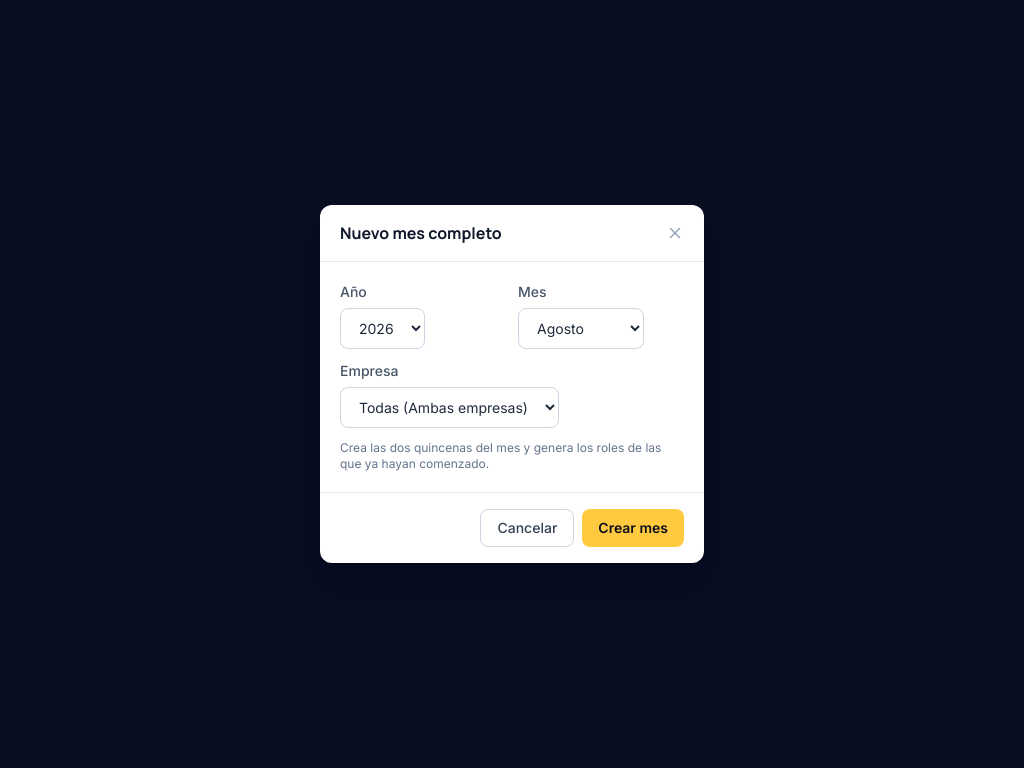
Test case: NuevoMesModal › muestra el error del servidor (ej. 409) sin cerrar el modal
The width and height of the screenshot is (1024, 768).
Click the button "Crear mes". click: click(633, 528)
box: [582,509,684,547]
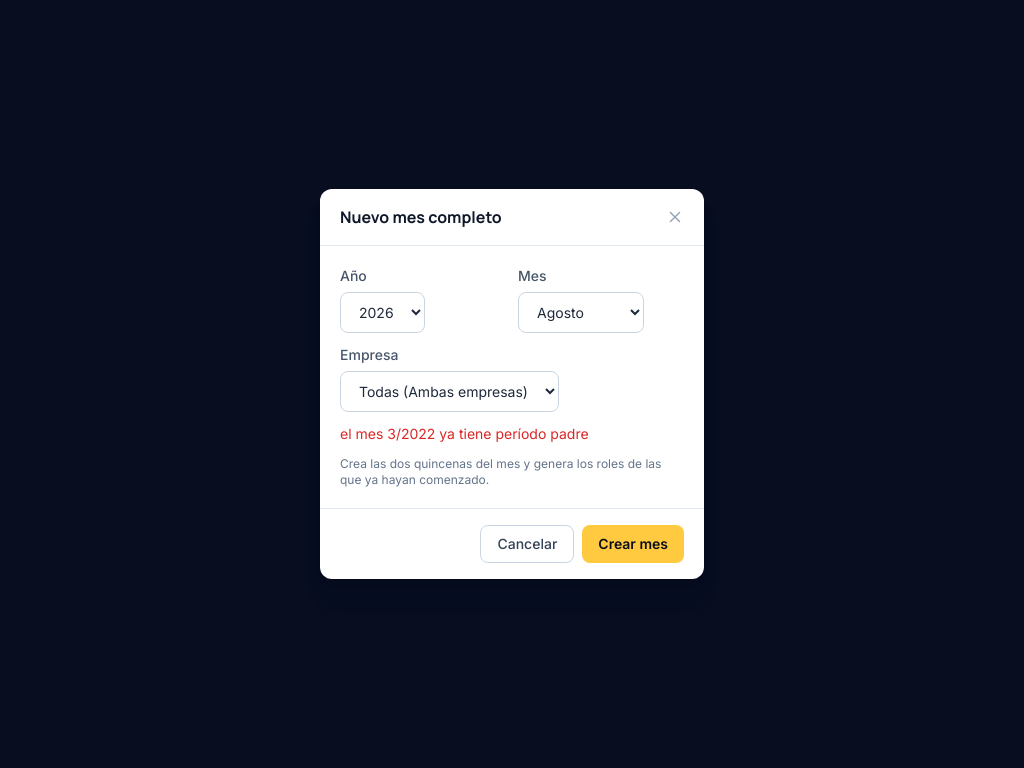
expect the text "el mes 3/2022 ya tiene período padre" is shown: met, box [340,425,589,442]
